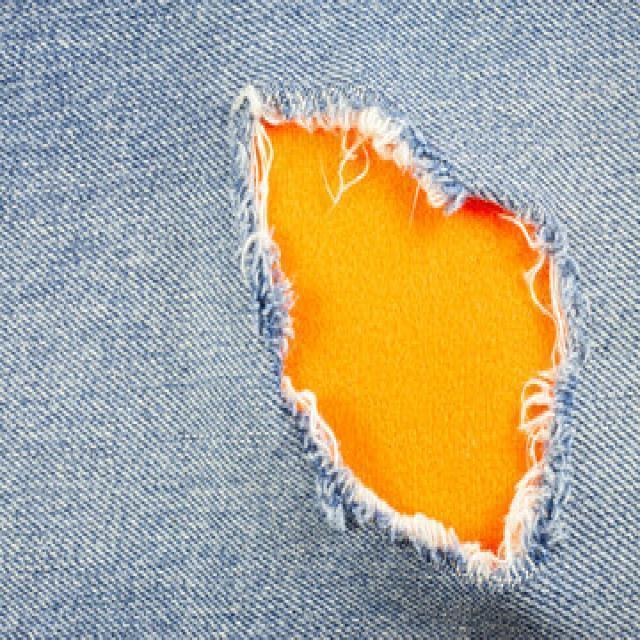Hole: (237, 89, 585, 584)
